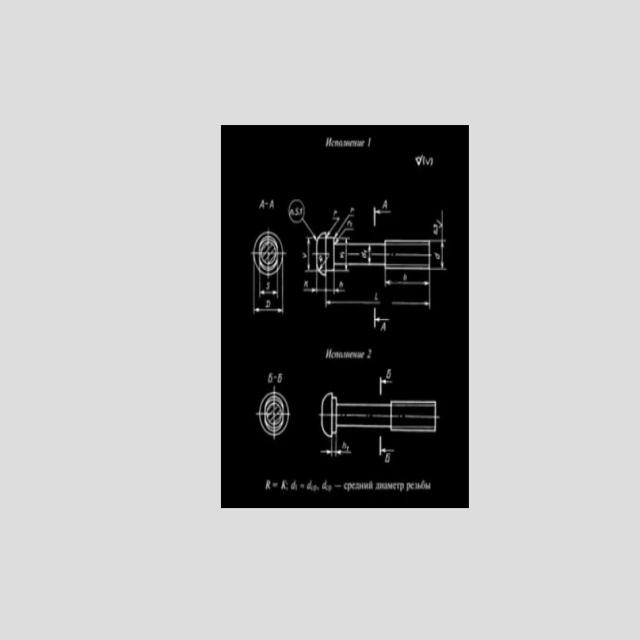marking_line: (302, 276, 383, 305), (383, 270, 432, 311), (252, 275, 284, 317), (430, 209, 447, 272), (384, 269, 432, 287), (303, 277, 347, 295), (322, 438, 353, 460), (375, 436, 395, 464), (372, 307, 392, 332), (335, 213, 355, 236), (258, 275, 278, 298), (304, 236, 315, 272), (373, 206, 390, 228), (377, 376, 393, 396), (327, 216, 341, 235), (339, 226, 356, 238)
numeric: (366, 348, 372, 360), (432, 223, 438, 235), (380, 322, 387, 332), (433, 251, 440, 260), (278, 372, 283, 384), (381, 200, 388, 208), (267, 373, 273, 382), (265, 299, 271, 308), (387, 369, 392, 379), (367, 137, 372, 147), (361, 252, 368, 259), (303, 280, 309, 287), (294, 208, 299, 216), (260, 199, 264, 209), (338, 280, 343, 288), (266, 281, 271, 289), (270, 199, 274, 208), (318, 255, 323, 262), (348, 221, 352, 227), (363, 249, 368, 253)
special_symbol: (415, 154, 423, 165), (425, 157, 431, 165)
